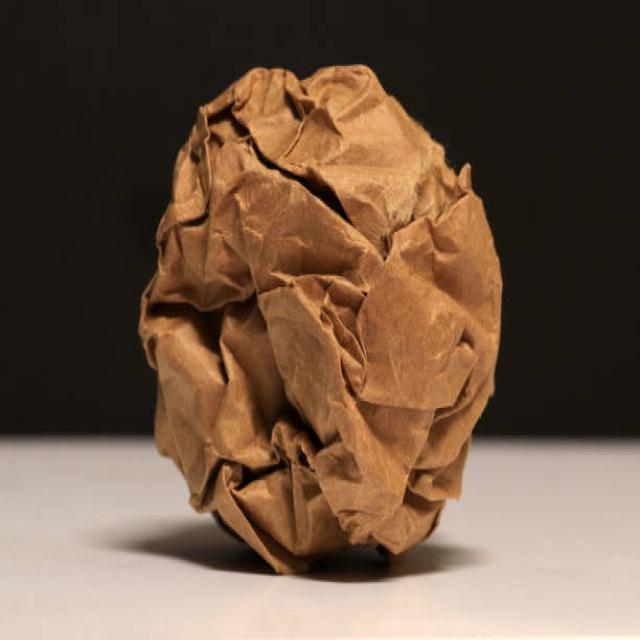electronic: (137, 61, 503, 574)
